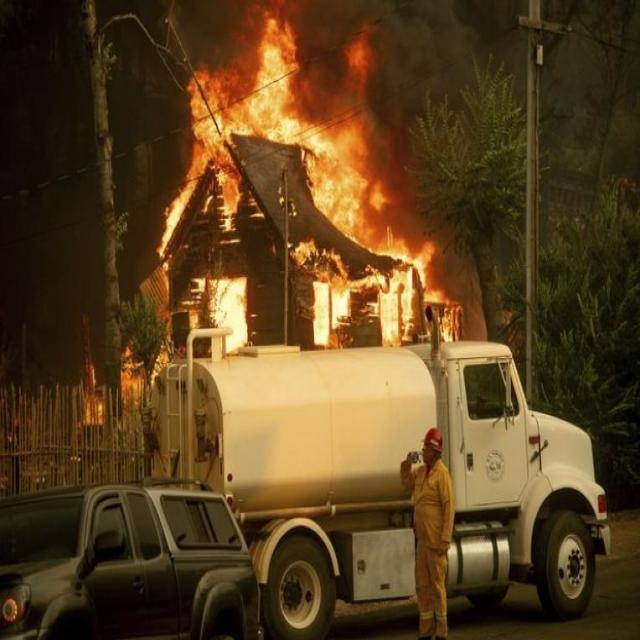Fire: (153, 15, 444, 264), (290, 239, 428, 348), (82, 344, 168, 418)
